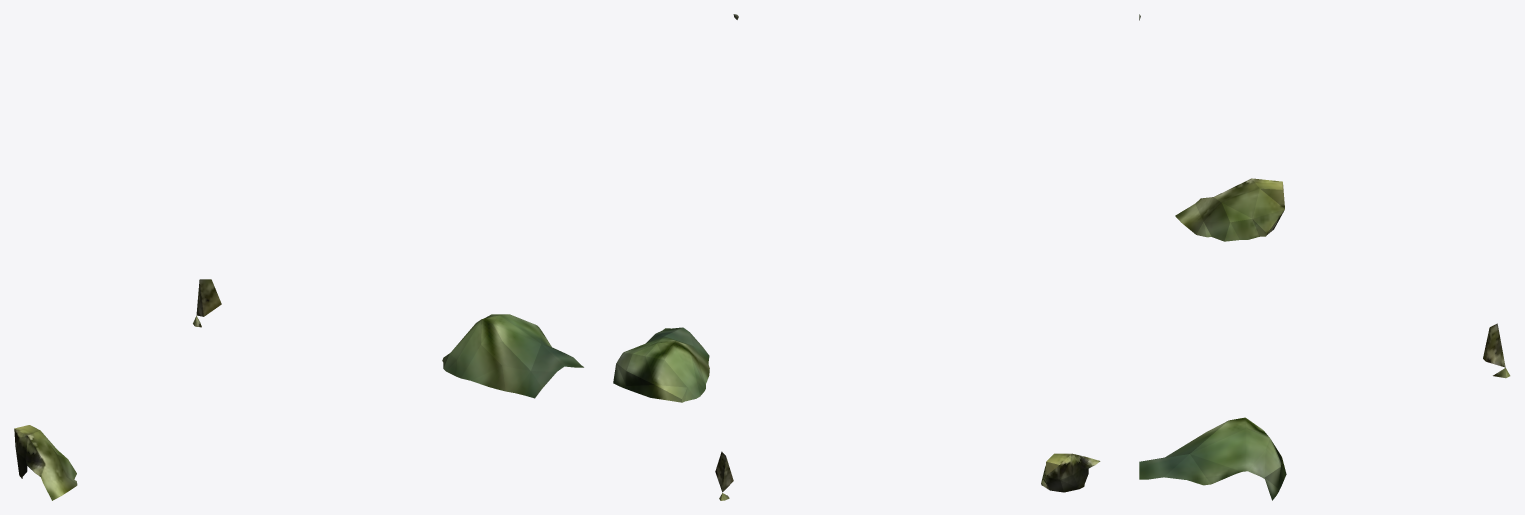
3 views of the same model, side by side, from view 1: azimuth 30°, elevation 25°; view 2: azimuth 150°, elevation 25°; view 3: azimuth 270°, elevation 25° (orthographic). The views are drawn at different scales.
Size of the model in its own units: 0.8373 by 0.6059 by 0.4606.
1 material, 1 textured.
